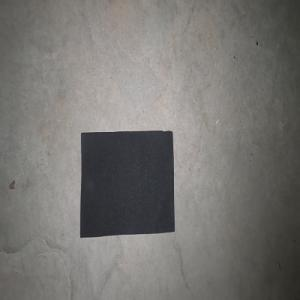PaintChip: (80, 130, 174, 238)
